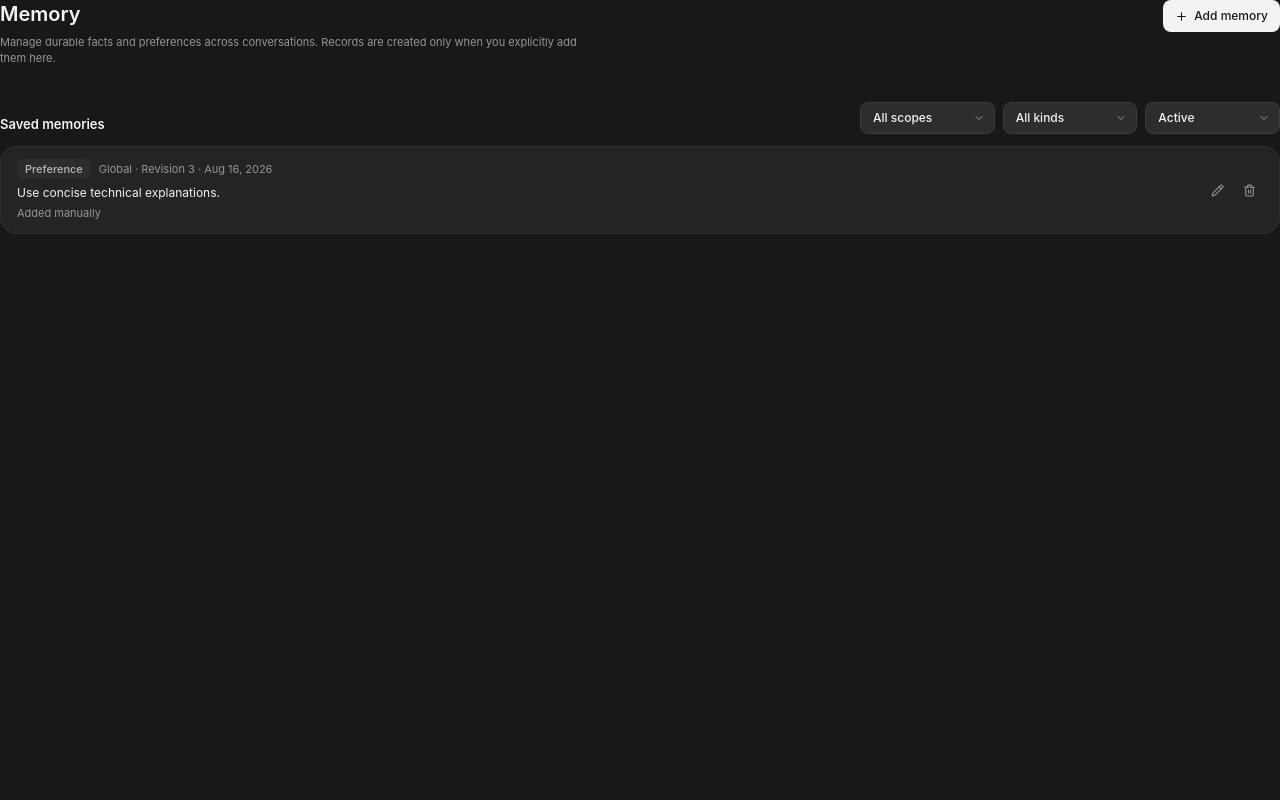
Scenario: MemorySettings › invalidates Forget when the authoritative record was forgotten elsewhere
Expected: the text "Added manually" is shown, [17, 206, 101, 220]
Click the button named "Forget memory": (1249, 190) [1235, 176, 1263, 204]
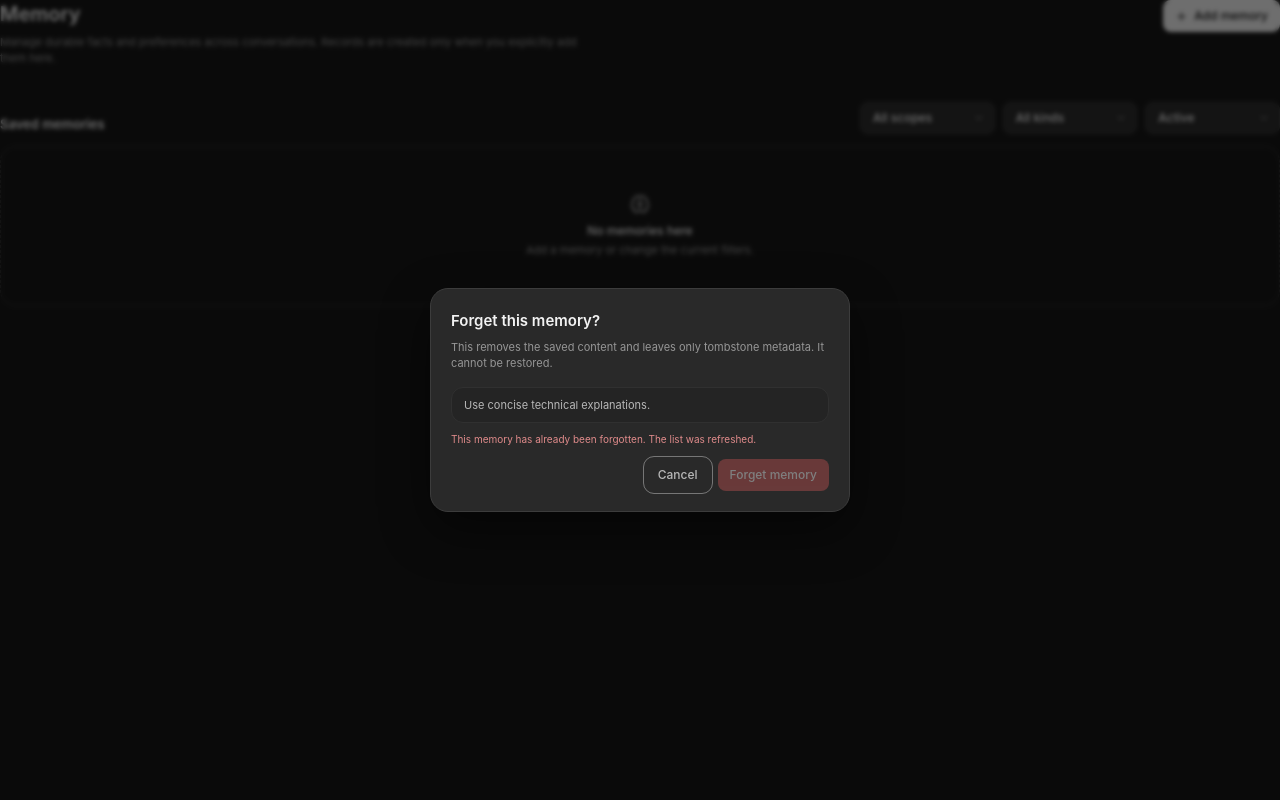
Expected: the text "already been forgotten" is shown, [451, 433, 756, 445]
Expected: the button "Forget memory" is disabled, [718, 459, 829, 491]
